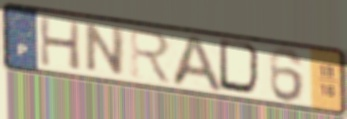6: (267, 45, 307, 106)
A: (168, 34, 226, 95)
D: (217, 37, 266, 98)
H: (37, 15, 83, 72)
N: (83, 22, 128, 78)
R: (128, 26, 175, 88)
